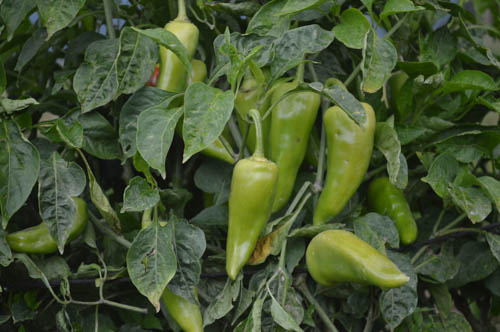ChiliPepper: (225, 159, 281, 283), (301, 230, 410, 293), (319, 107, 374, 226), (266, 85, 316, 211), (179, 61, 230, 159), (5, 197, 84, 254), (156, 23, 195, 114), (370, 180, 417, 245), (160, 283, 205, 332), (236, 87, 268, 152)
